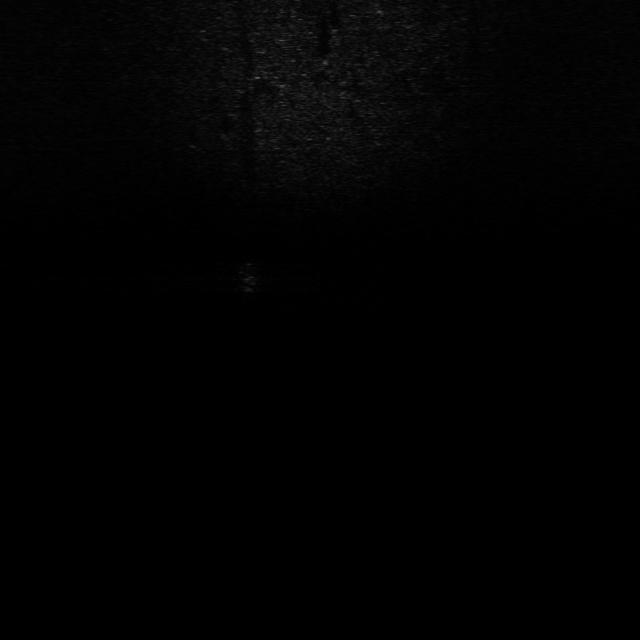human body: (230, 257, 270, 306)
